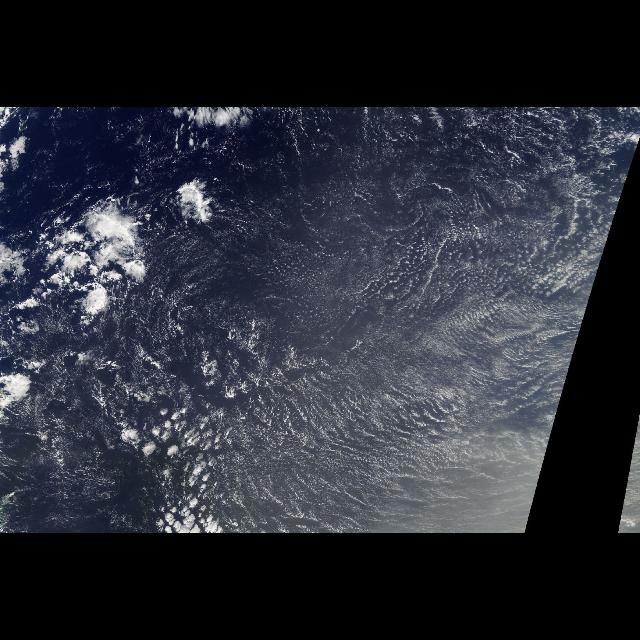Sugar: (24, 107, 640, 533), (616, 413, 640, 533)
